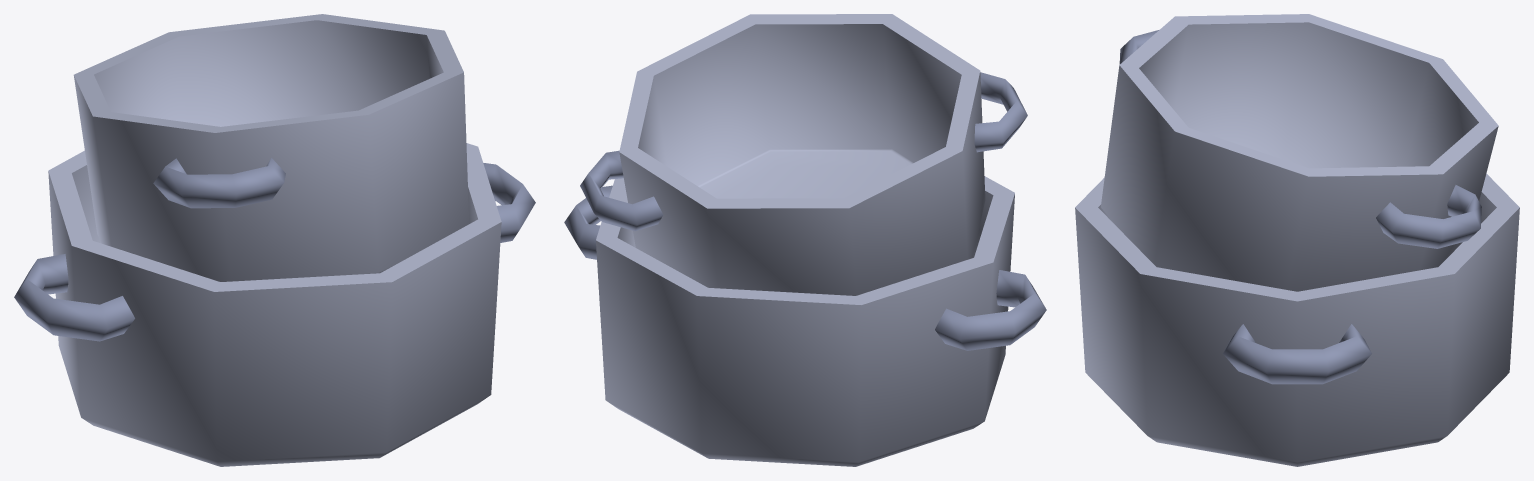
Rendered from Stacked Pots.FBX.
3 views of the same model, side by side, from view 1: azimuth 30°, elevation 25°; view 2: azimuth 150°, elevation 25°; view 3: azimuth 270°, elevation 25° (orthographic). The views are drawn at different scales.
Visible parts, largest first — view 1: Pot_01, Pot_002; view 2: Pot_002, Pot_01; view 3: Pot_002, Pot_01.
Boxes of the visible parts, x1=… form: Pot_01: x1=14, y1=143, x2=535, y2=466; Pot_002: x1=73, y1=14, x2=469, y2=281; Pot_002: x1=580, y1=14, x2=1027, y2=295; Pot_01: x1=564, y1=176, x2=1046, y2=466; Pot_002: x1=1101, y1=14, x2=1498, y2=291; Pot_01: x1=1075, y1=173, x2=1519, y2=466.
Bounding box in the file's own units: 18.15 × 12.16 × 15.11.
